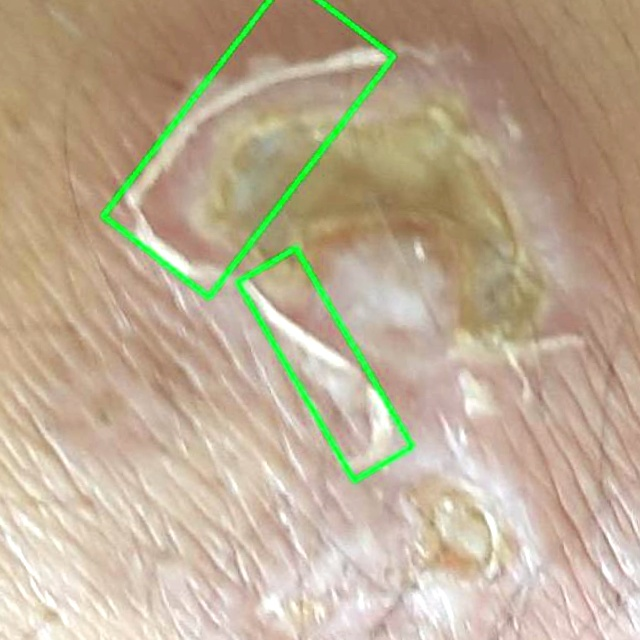Contact Dermatitis: (102, 0, 393, 297), (237, 247, 412, 479)
